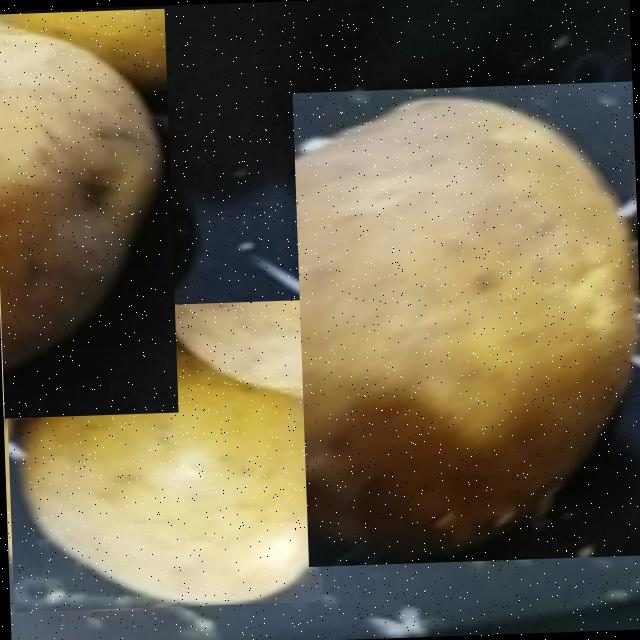Damaged potato: (292, 81, 640, 567), (0, 8, 178, 418)
Potato: (3, 299, 320, 612)
